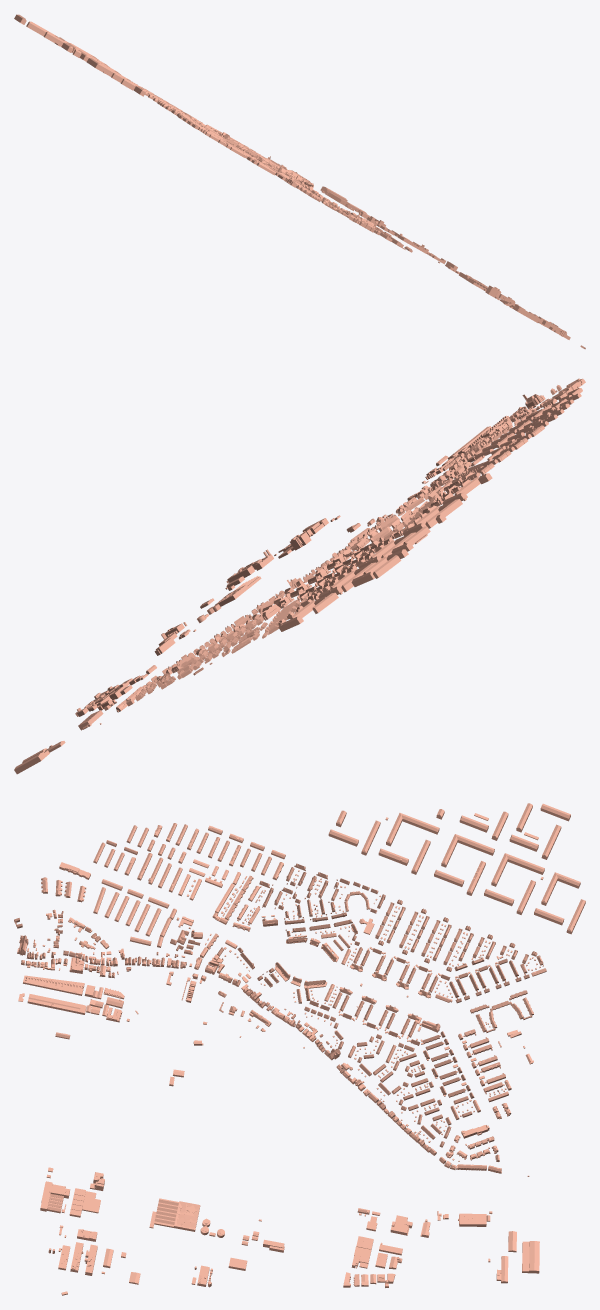
3 views of the same model, one above another, from view 1: azimuth 30°, elevation 25°; view 2: azimuth 150°, elevation 25°; view 3: azimuth 270°, elevation 25° (orthographic). The views are drawn at different scales.
Size of the model in its own units: 3.19e+07 by 2.28e+07 by 3.92e+07.
